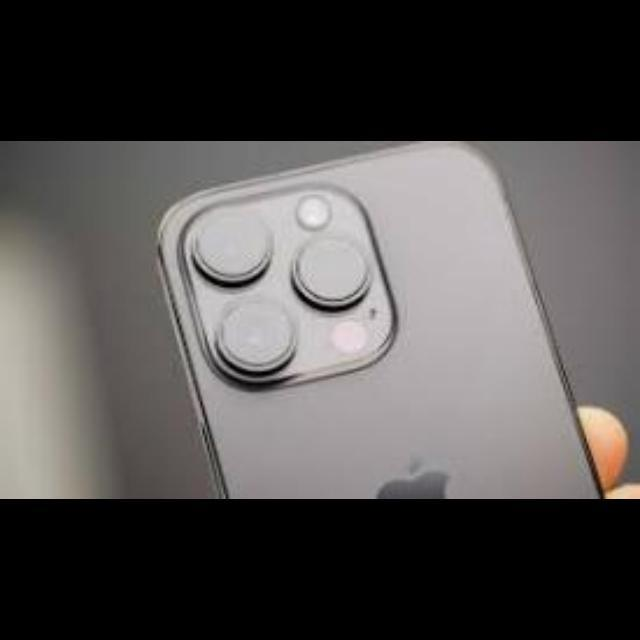Phone: (148, 142, 610, 498)
